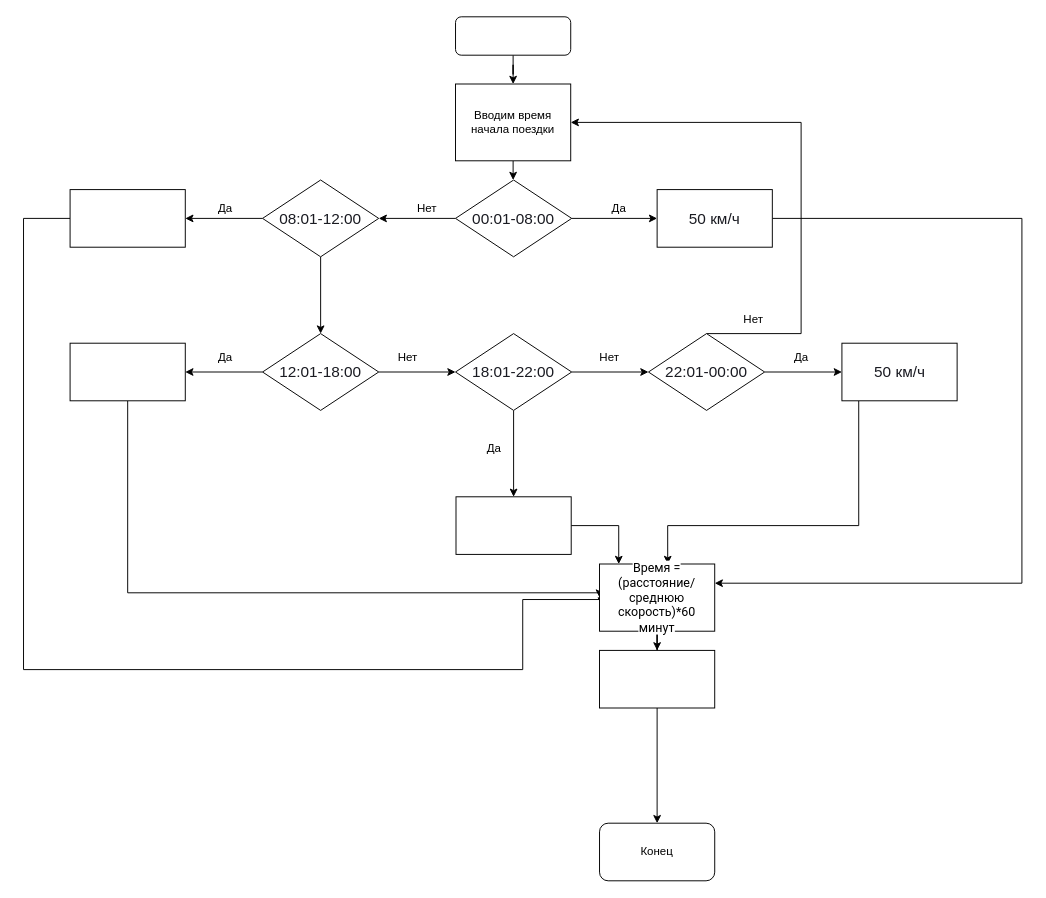
Image size: 1046x898. Some labels were removed from this diagram. Here are the shapes that lost their labels. From the top down, the box of each, then its label:
(455, 16, 571, 55): Такси
(69, 189, 185, 247): 35 км/ч
(69, 342, 185, 401): 42 км/ч
(455, 496, 571, 554): 30 км/ч
(599, 649, 715, 708): Стоимость = время*11 р / мин
